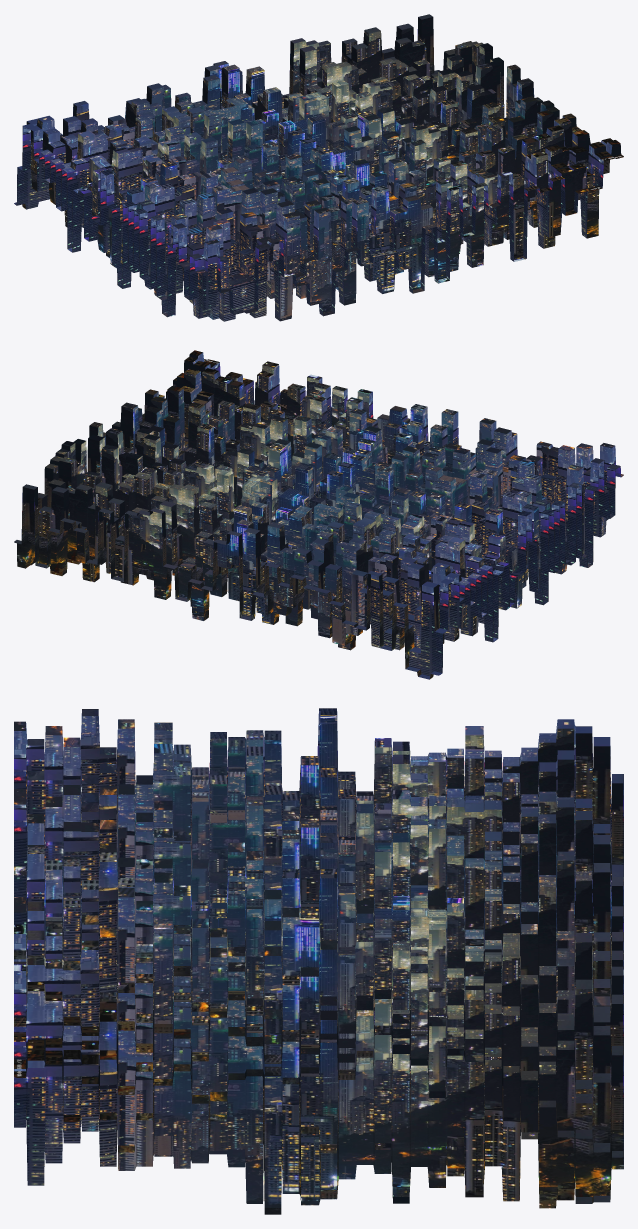
The model's file is buildings.glb.
3 renders of one model, top to bottom at view 1: azimuth 30°, elevation 25°; view 2: azimuth 150°, elevation 25°; view 3: azimuth 270°, elevation 25°, orthographic. The views are drawn at different scales.
Visible parts, largest first — view 1: Plane.001; view 2: Plane.001; view 3: Plane.001.
Part boxes in pixels (<box>): Plane.001: <box>14,14,623,321</box>; Plane.001: <box>14,350,623,679</box>; Plane.001: <box>14,708,623,1214</box>.
Size of the model in its own units: 53.3 by 12.51 by 40.27.
1 material, 1 textured.
